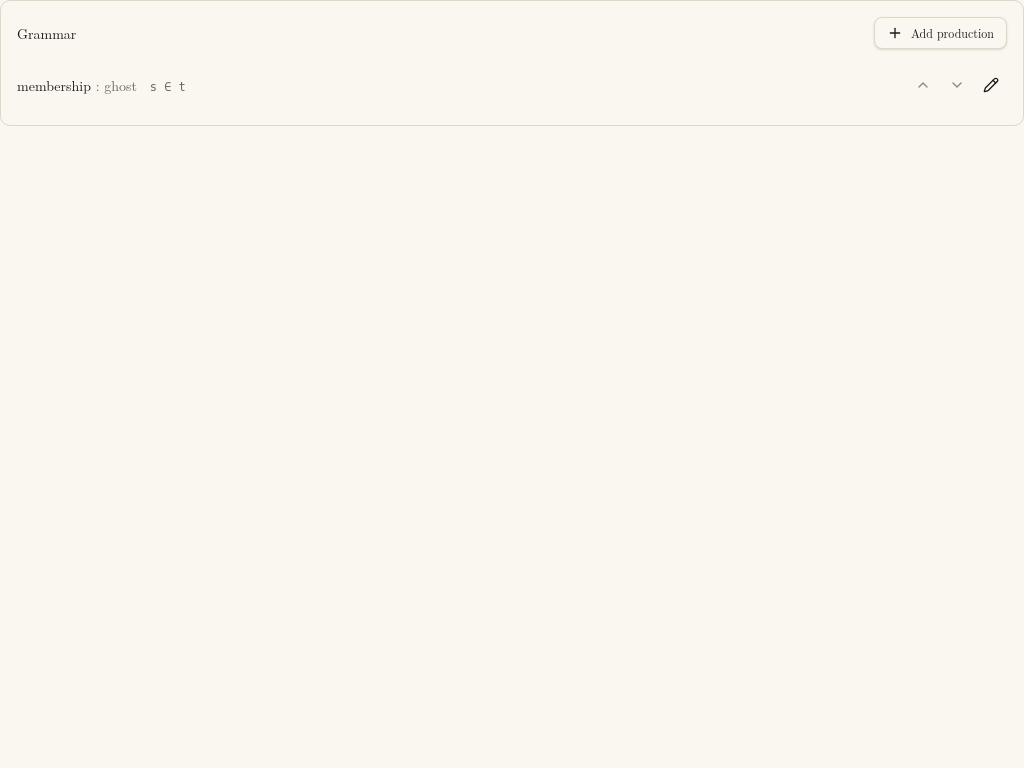
ProductionsSection sort validation › disables Save when the stored sort is no longer a known sort
This screenshot has width=1024, height=768.
Click the 3rd button named "Edit " at (991, 85), box [975, 69, 1007, 101]
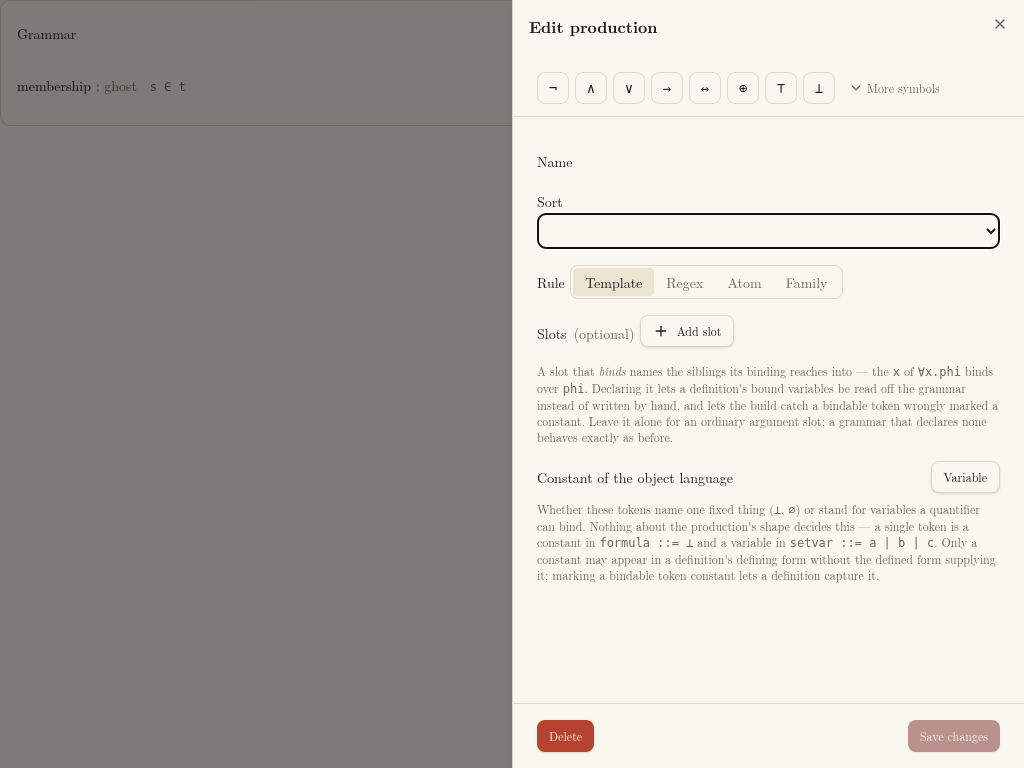
Now the button "Save changes" is disabled, box [908, 720, 1000, 752]
# Picking a real sort clears it.
Select "formula" in the dropdown labelled "Sort" at (768, 231), box [537, 213, 1000, 249]
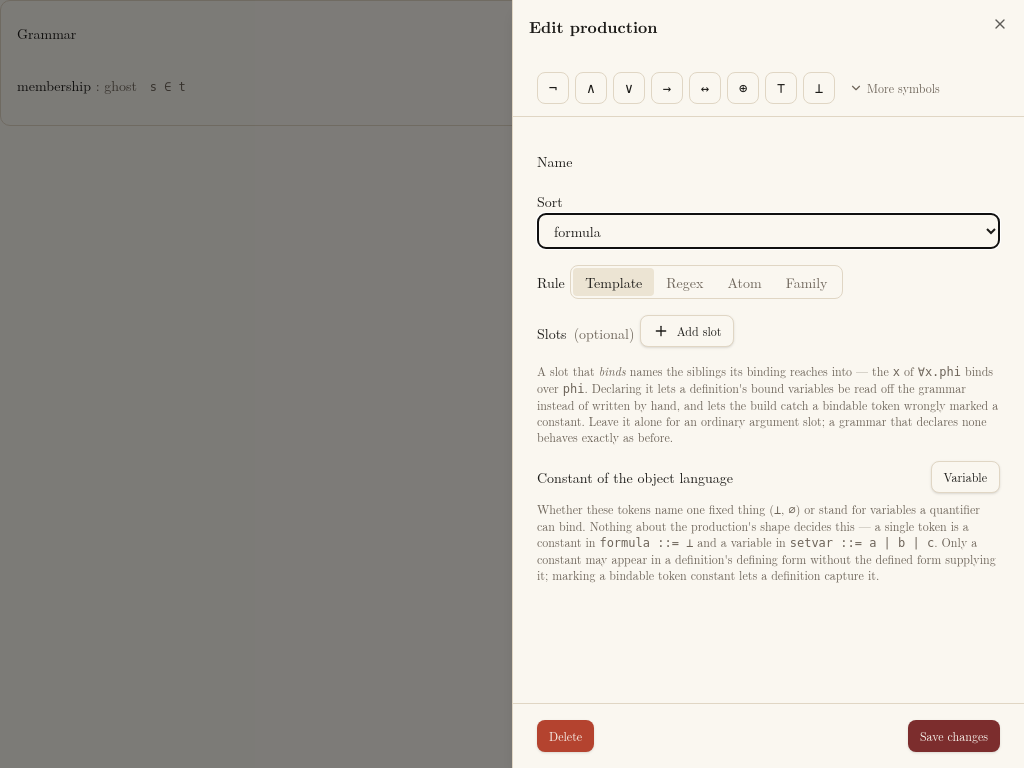
Now the button "Save changes" is enabled, box [908, 720, 1000, 752]
